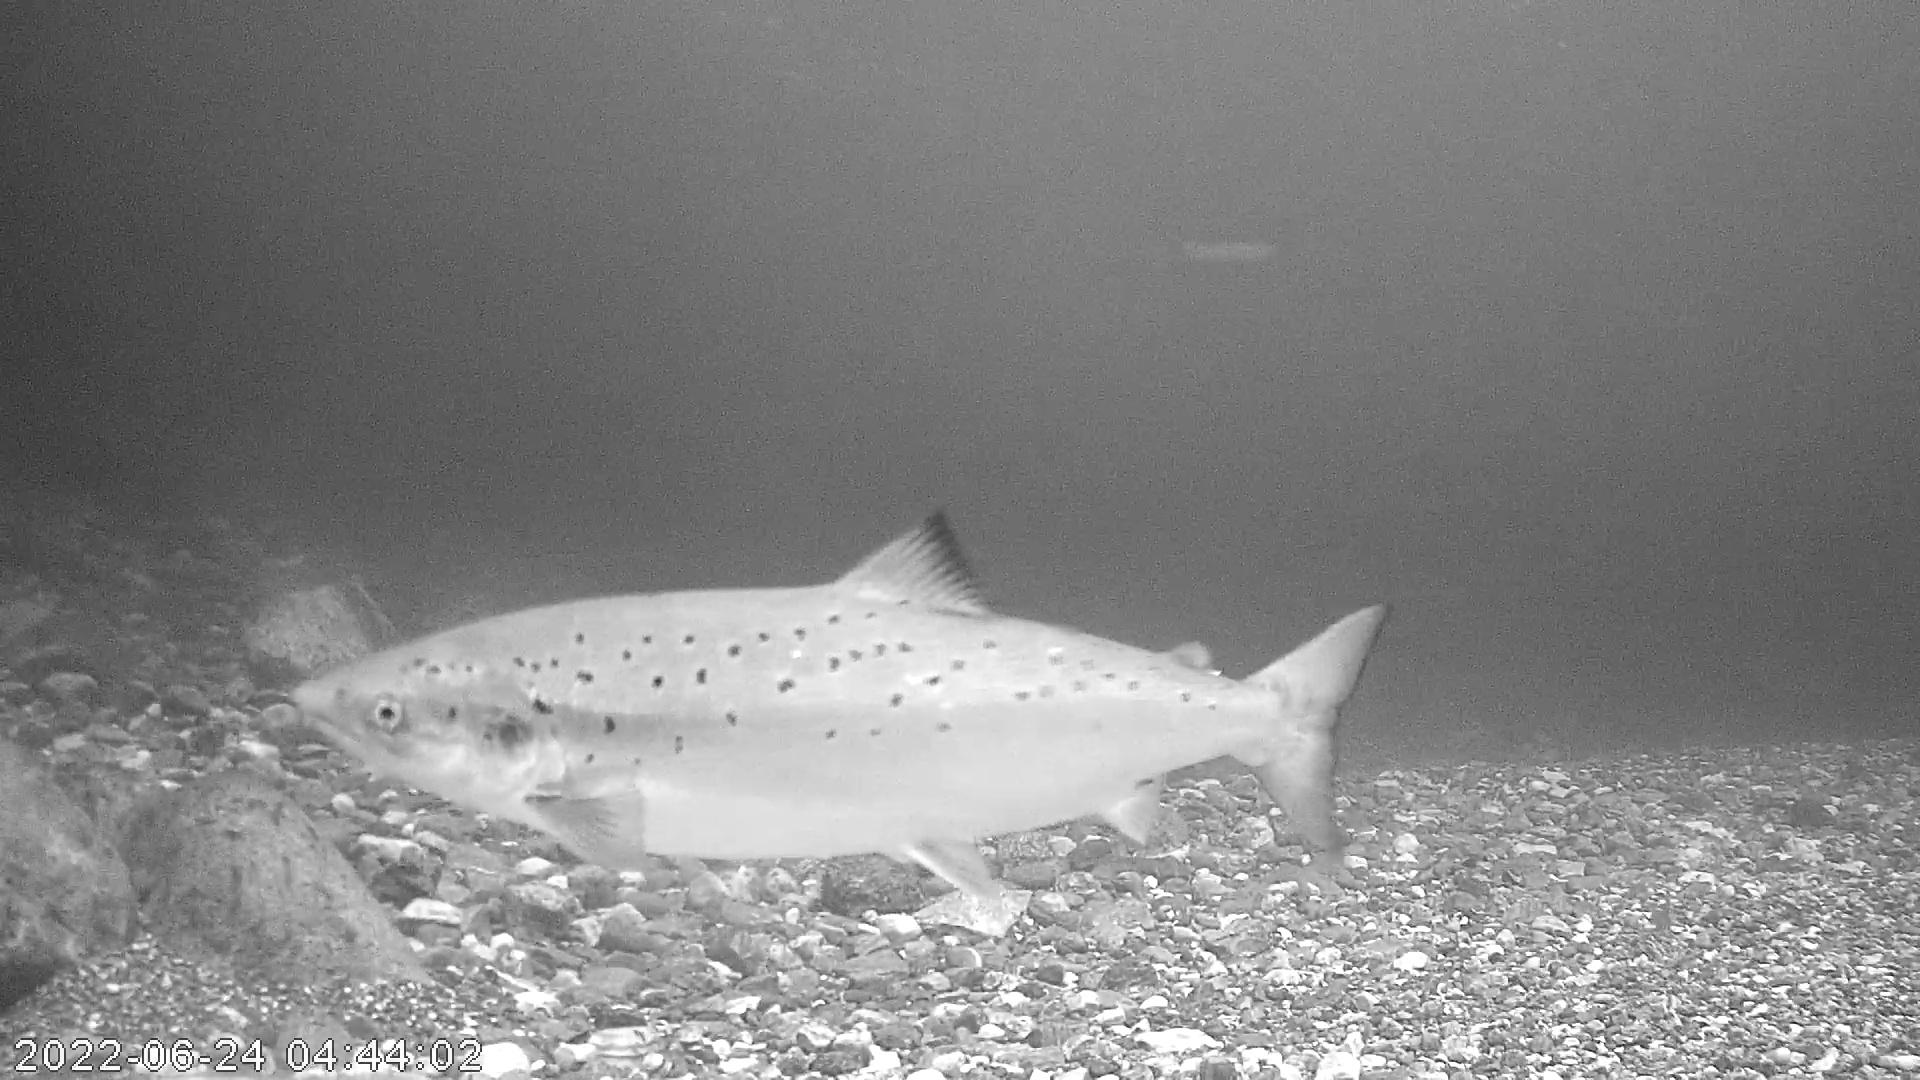salmon: (291, 505, 1394, 899)
